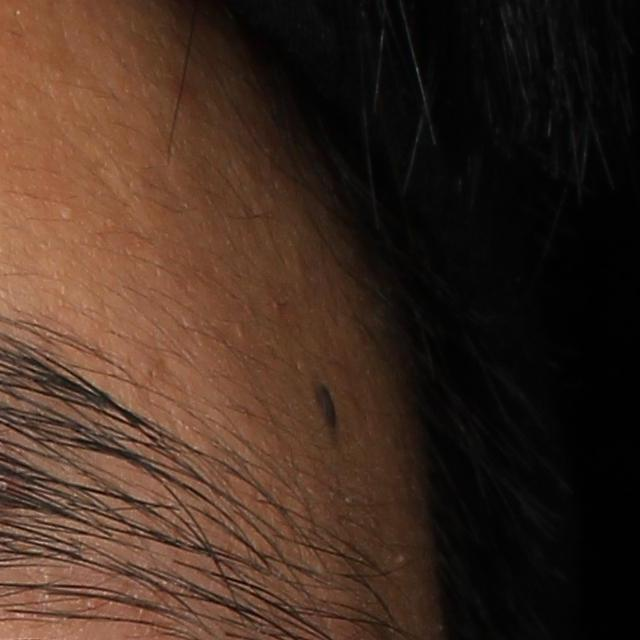comedo: (58, 199, 79, 222)
nevus: (307, 373, 339, 448)
